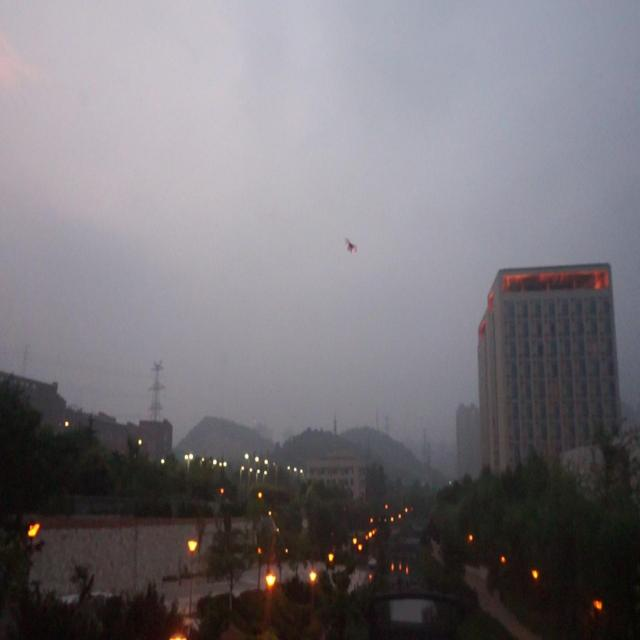UAV: (345, 237, 357, 254)
